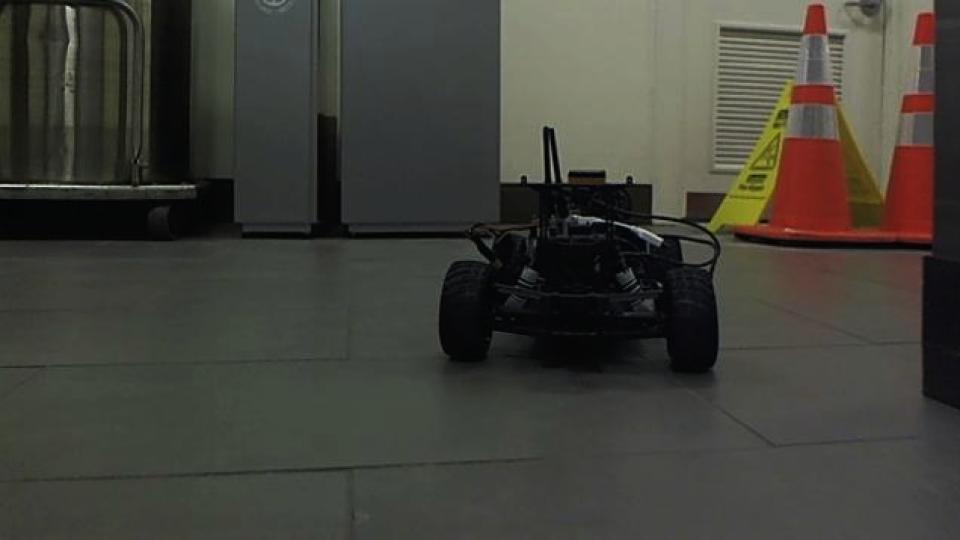car: (434, 123, 724, 376)
